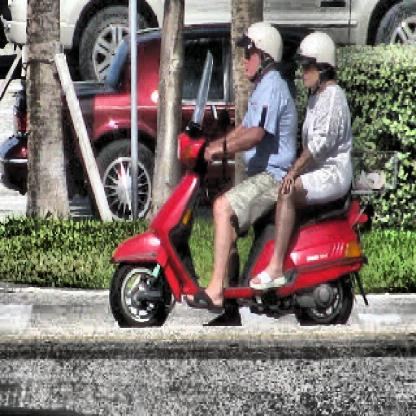wear: (295, 30, 333, 94), (241, 22, 275, 86)
